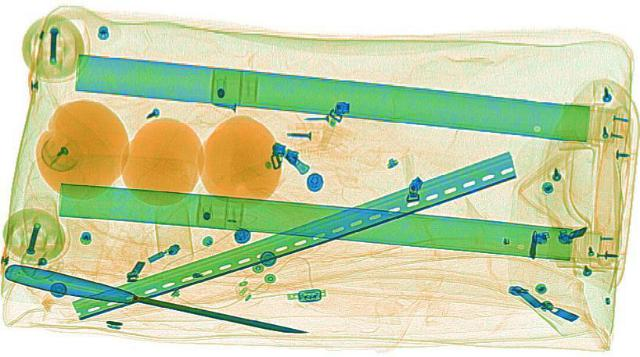Knife: (0, 261, 313, 342)
